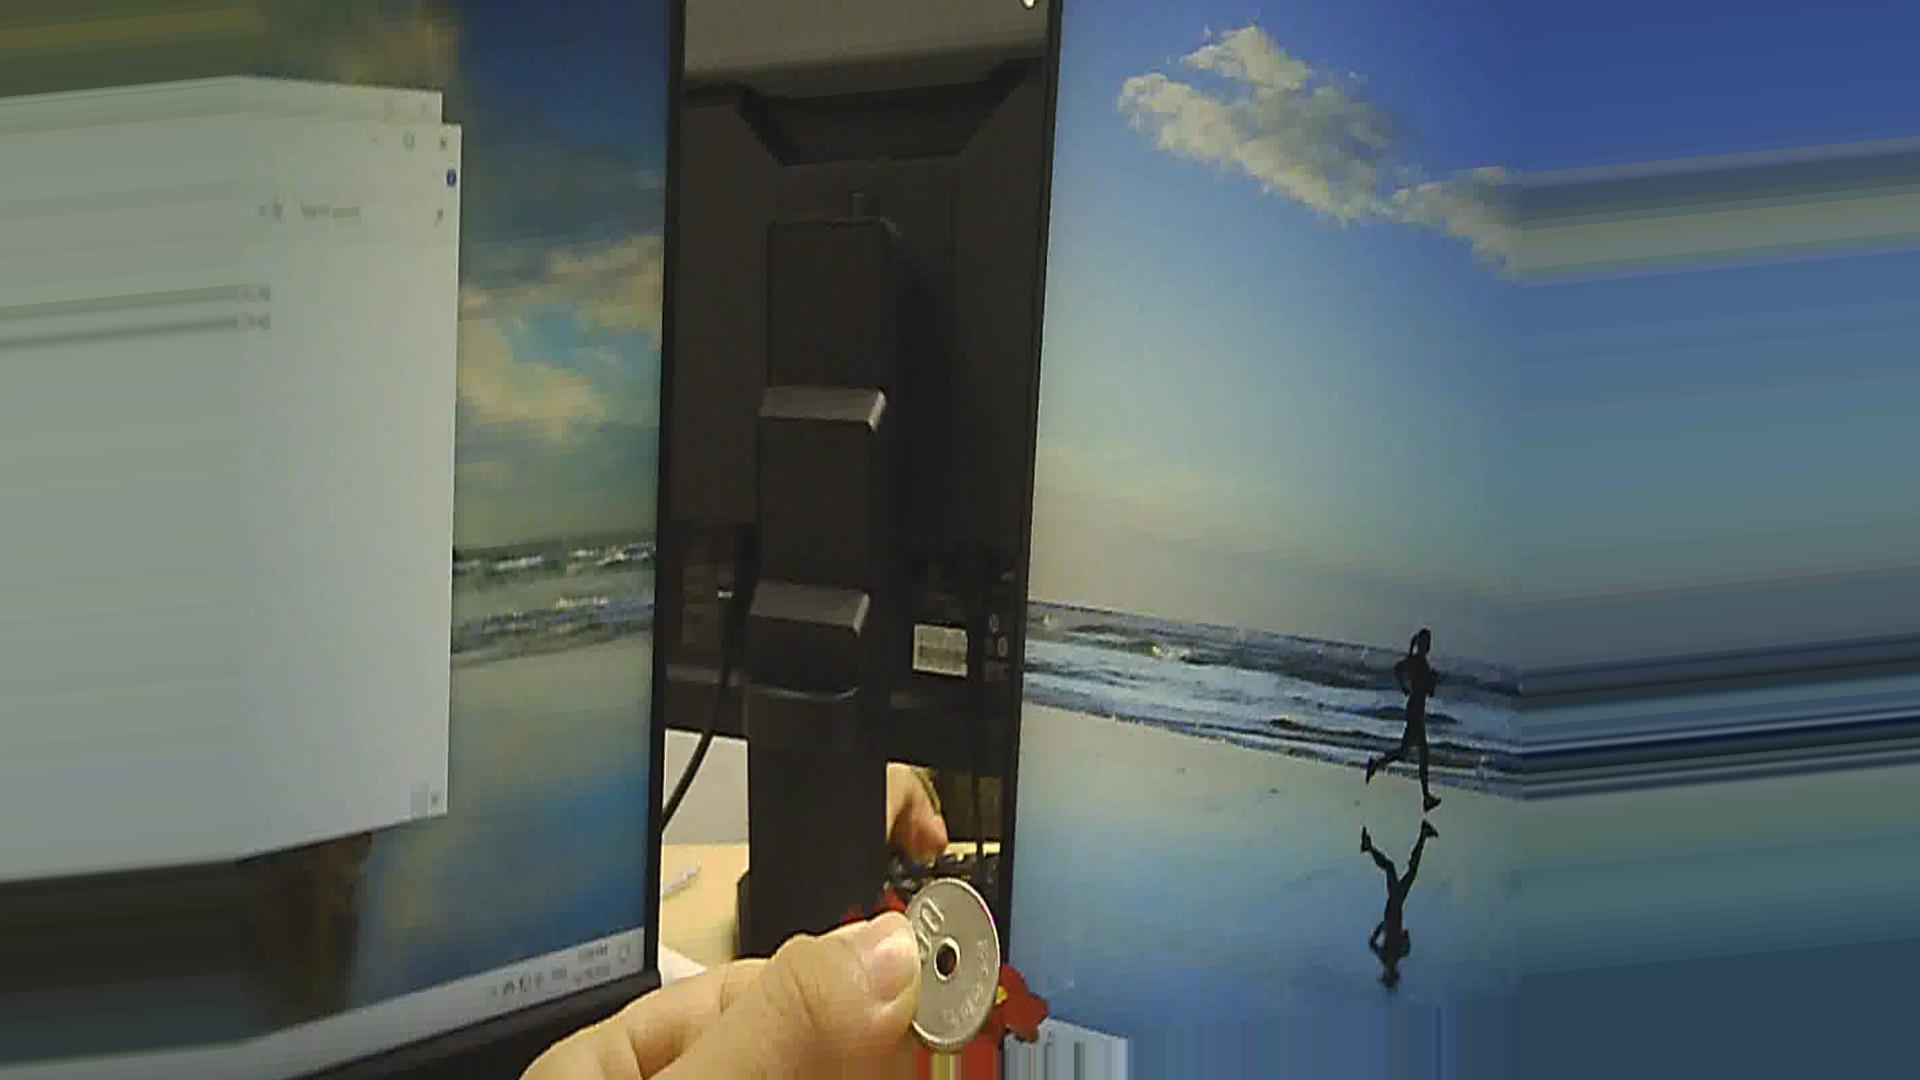50 Yen: (884, 880, 1009, 1058)
